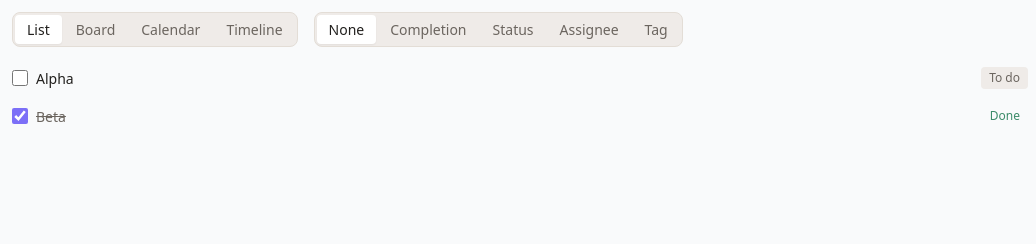
Test: ViewContainer › switching to Timeline renders timeline-view
What coordinates should you click on to do the following:
click the button "Timeline"
I would click on:
 (254, 30)
Its box is x1=214 y1=15 x2=295 y2=44.
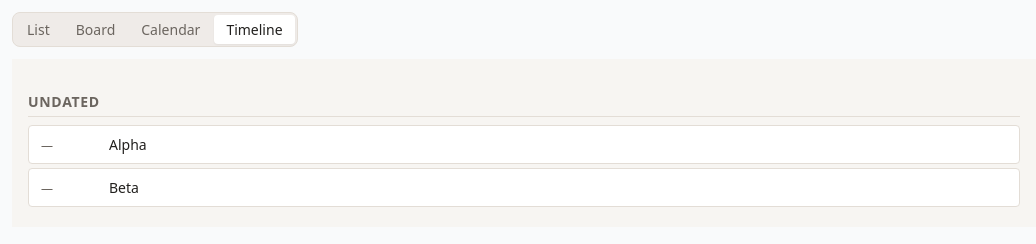
Result: the element with test id "timeline-view" is shown
Result: the element with test id "list-view-lens" is gone
